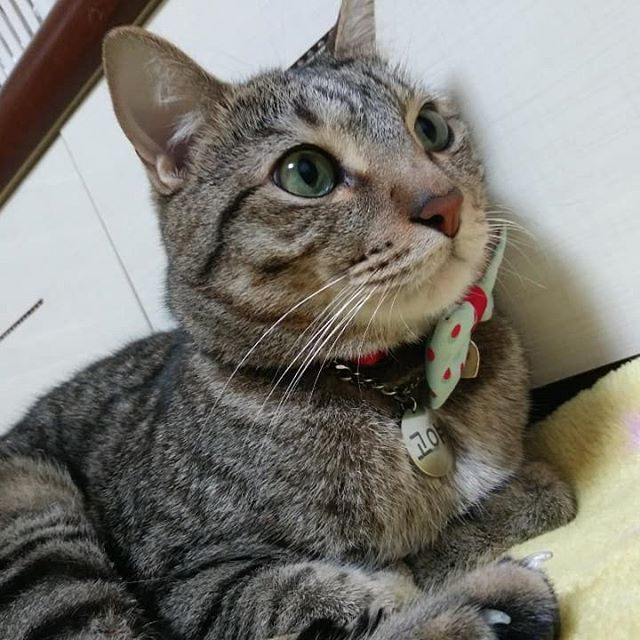cat: (96, 1, 503, 352)
